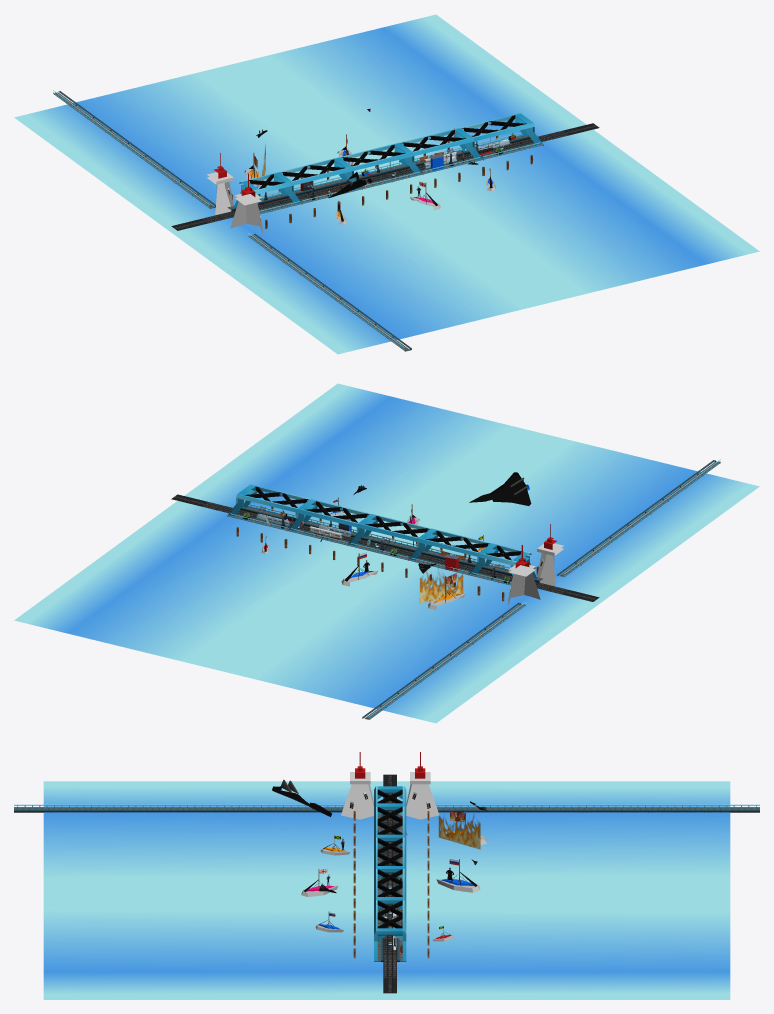
Rendered from subwaysurferstest71.glb.
3 renders of one model, top to bottom at view 1: azimuth 30°, elevation 25°; view 2: azimuth 150°, elevation 25°; view 3: azimuth 270°, elevation 25°, orthographic. The views are drawn at different scales.
Parts seen in each view (by area): view 1: Water, Overpass.002, Overpass, Overpass.001, Overpass.003, lighttower, Overpass.004, lighttower.001; view 2: Water, Overpass, Overpass.001, Overpass.002, Overpass.003, Plane1.001, lighttower.001, Overpass.004, Fire, lighttower; view 3: Water, lighttower, lighttower.001, Overpass, Fire, Overpass.001, Overpass.003, Overpass.002, Overpass.004, boat1.006, Plane1.001.
Boxes of the visible parts, x1=… form: Water: x1=14, y1=14, x2=759, y2=354; Overpass.002: x1=340, y1=142, x2=422, y2=174; Overpass: x1=460, y1=113, x2=543, y2=145; Overpass.001: x1=400, y1=128, x2=482, y2=159; Overpass.003: x1=280, y1=157, x2=362, y2=189; lighttower: x1=230, y1=173, x2=263, y2=235; Overpass.004: x1=233, y1=172, x2=302, y2=207; lighttower.001: x1=207, y1=153, x2=233, y2=215; Water: x1=14, y1=383, x2=759, y2=723; Overpass: x1=227, y1=484, x2=310, y2=516; Overpass.001: x1=288, y1=499, x2=370, y2=530; Overpass.002: x1=348, y1=514, x2=430, y2=545; Overpass.003: x1=408, y1=528, x2=491, y2=560; Plane1.001: x1=469, y1=472, x2=531, y2=505; lighttower.001: x1=507, y1=545, x2=540, y2=606; Overpass.004: x1=469, y1=543, x2=537, y2=578; Fire: x1=420, y1=571, x2=463, y2=603; lighttower: x1=537, y1=524, x2=563, y2=586; Water: x1=43, y1=781, x2=730, y2=999; lighttower: x1=341, y1=752, x2=373, y2=819; lighttower.001: x1=406, y1=752, x2=439, y2=819; Overpass: x1=374, y1=900, x2=406, y2=961; Fire: x1=438, y1=815, x2=480, y2=849; Overpass.001: x1=374, y1=869, x2=406, y2=909; Overpass.003: x1=374, y1=806, x2=406, y2=847; Overpass.002: x1=374, y1=837, x2=406, y2=878; Overpass.004: x1=374, y1=786, x2=406, y2=816; boat1.006: x1=436, y1=859, x2=480, y2=892; Plane1.001: x1=272, y1=779, x2=331, y2=816.
Bounding box in the file's own units: 562 × 87.32 × 808.
11 materials, 11 textured.
